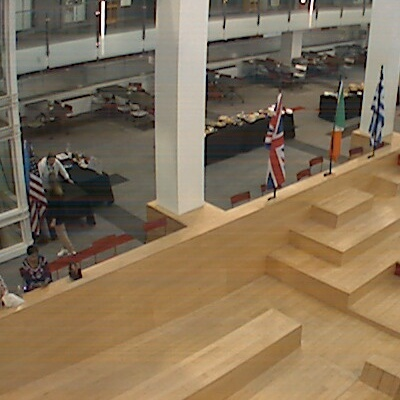head: (24, 245, 41, 262), (47, 172, 62, 187), (44, 151, 60, 165)
